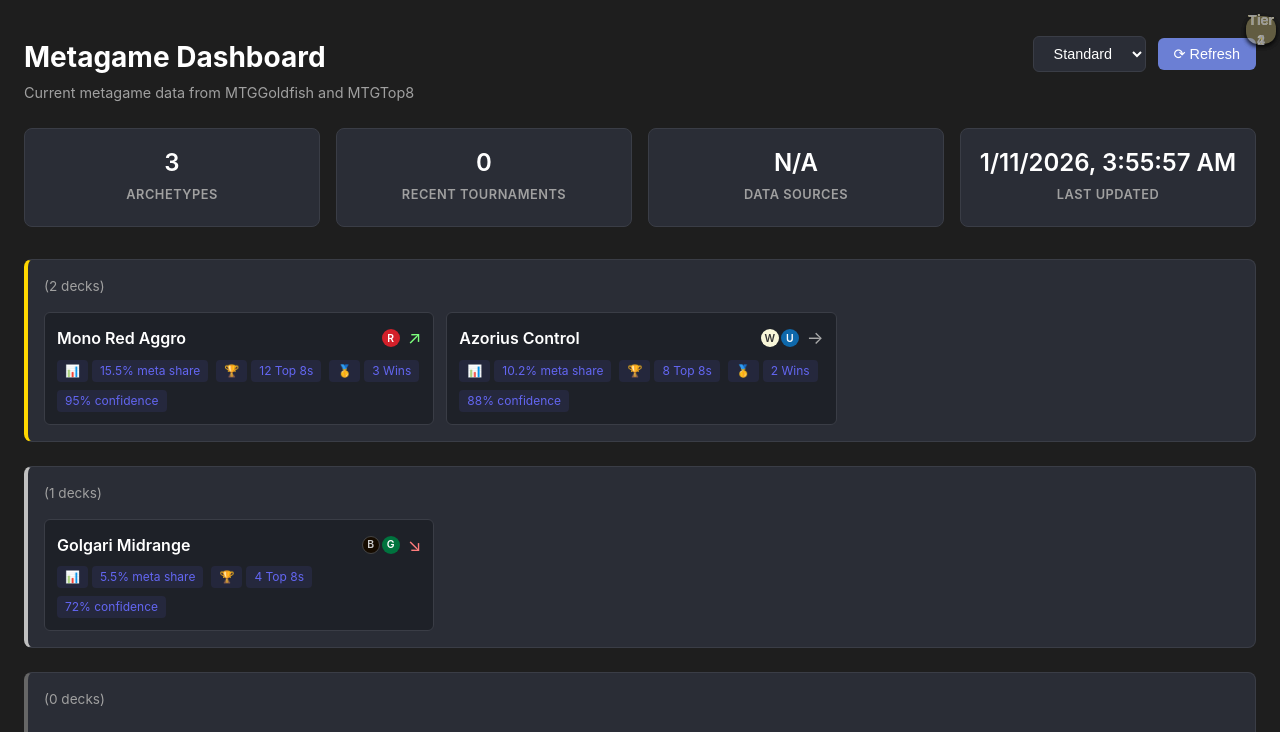
Test case: Meta › refresh functionality › displays error when refresh fails
Expected: the text "Mono Red Aggro" is shown, [57,328,186,348]
Click the button "⟳ Refresh". click: (1207,54)
box: [1158,38,1256,70]
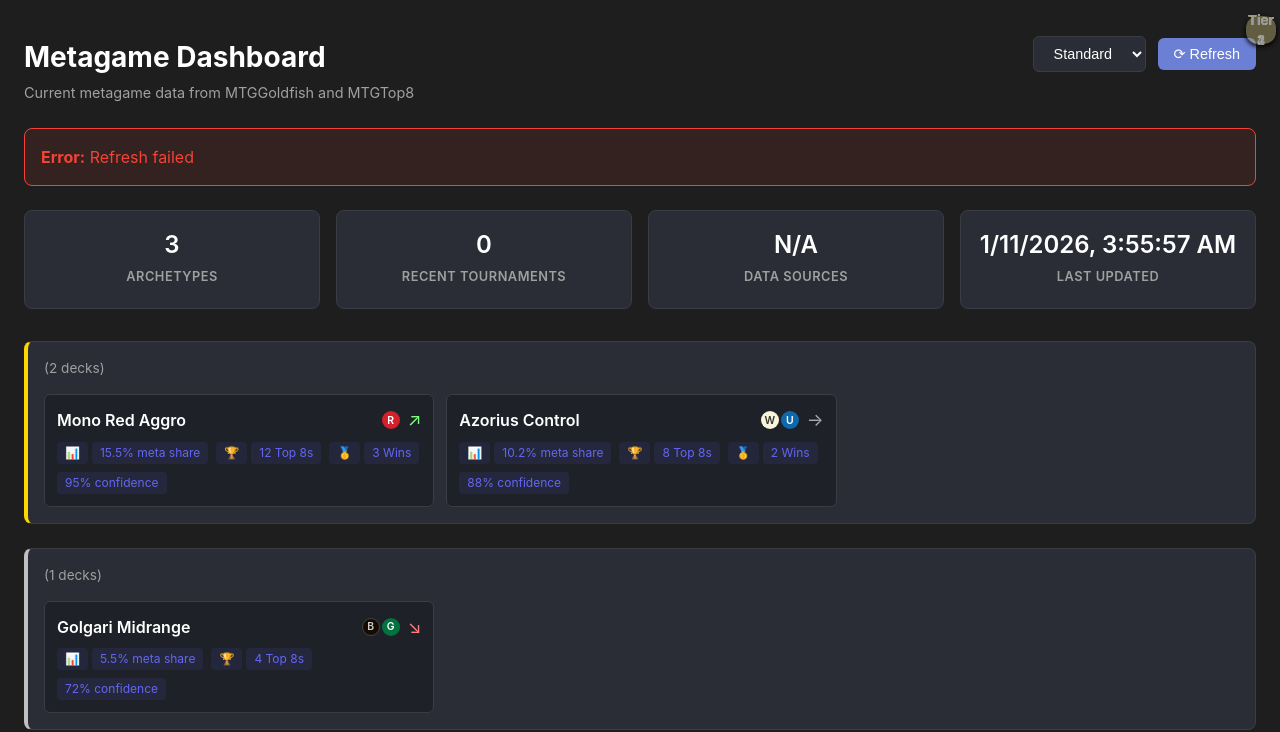
Now the text "Error: Refresh failed" is shown, box [24,128,1256,186]
